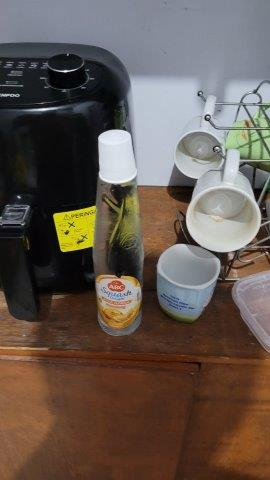botolkaca: (86, 129, 149, 337)
